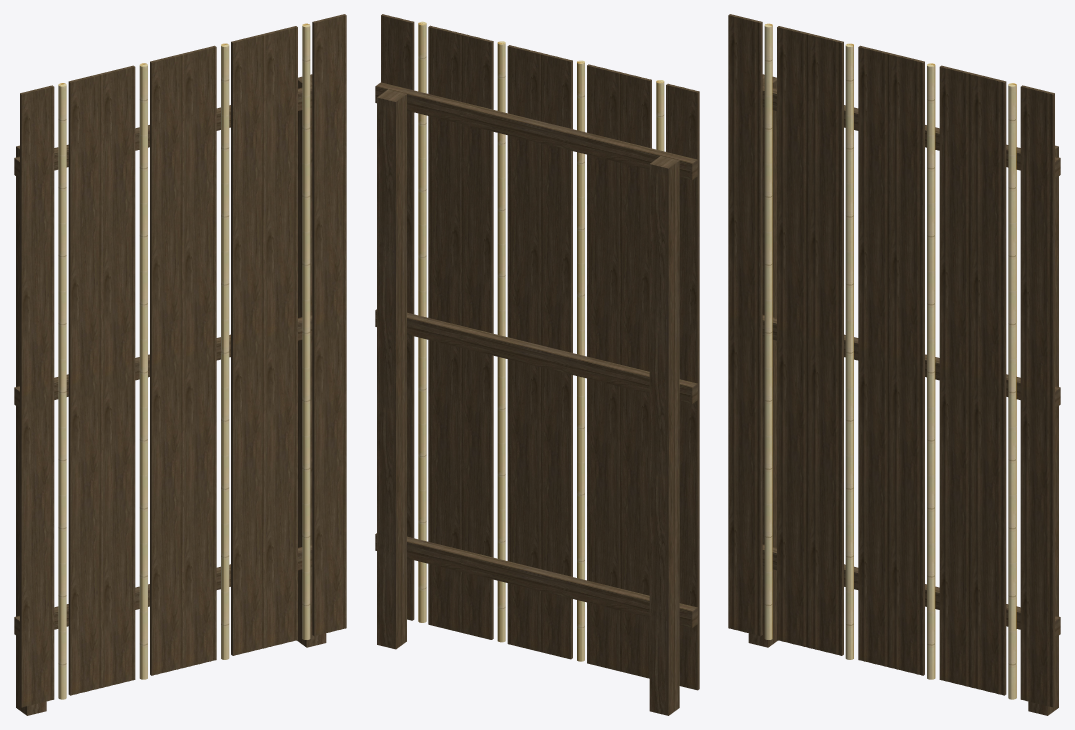
The model's file is kodawari-yamato_h1800_brownebony.fbx.
3 views of the same model, side by side, from view 1: azimuth 30°, elevation 25°; view 2: azimuth 150°, elevation 25°; view 3: azimuth 330°, elevation 25° (orthographic). The views are drawn at different scales.
Parts seen in each view (by area): view 1: kodawari-yamato_h1800_brownebony; view 2: kodawari-yamato_h1800_brownebony; view 3: kodawari-yamato_h1800_brownebony.
Part boxes in pixels (left/top/right/bottom): kodawari-yamato_h1800_brownebony: left=14, top=14, right=346, bottom=715; kodawari-yamato_h1800_brownebony: left=375, top=14, right=699, bottom=715; kodawari-yamato_h1800_brownebony: left=728, top=14, right=1060, bottom=715.
Bounding box in the file's own units: 100 × 185 × 11.2.
Materials: 3 (3 with a texture image).
